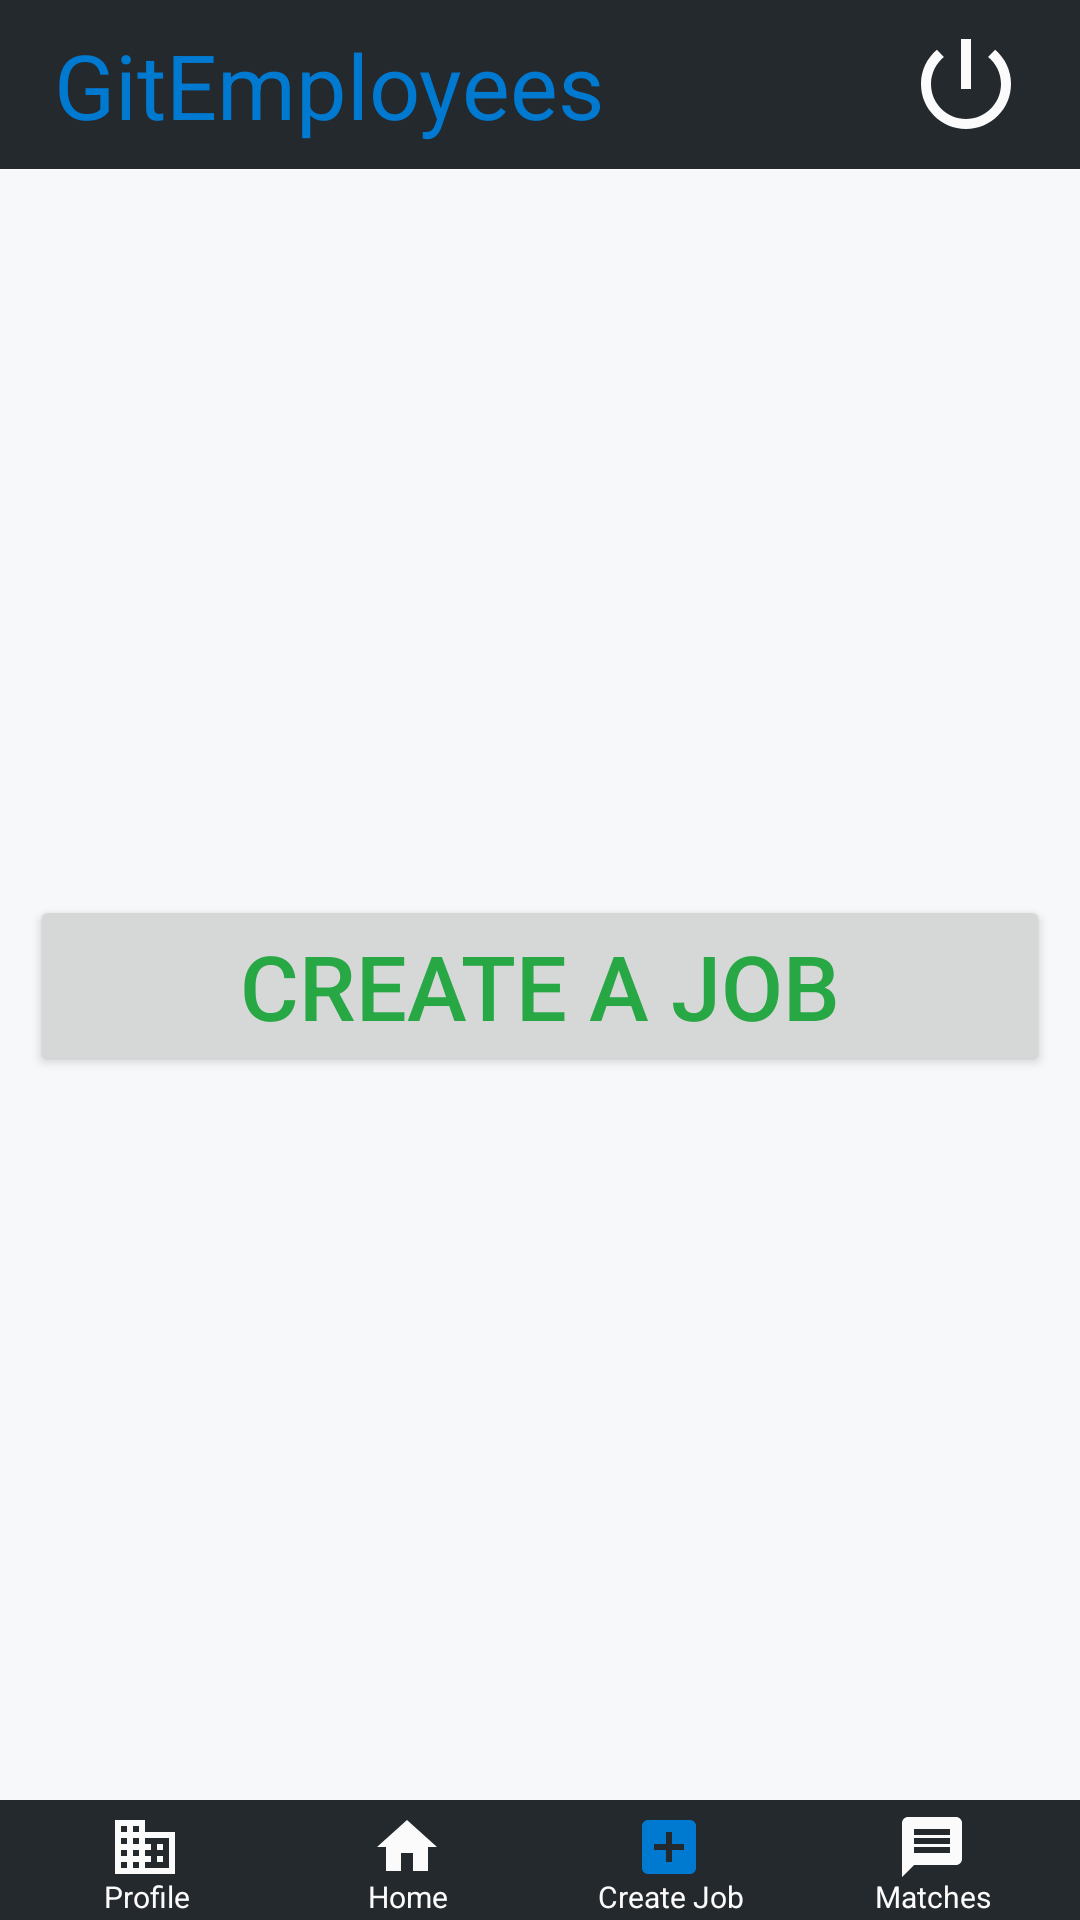

Icon click points for this 1080w x 1920h phone screenshot, format point (x, y):
addblue: point (669, 1847)
businesswhite: point (145, 1847)
messagewhite: point (932, 1847)
powerwhite: point (966, 84)
